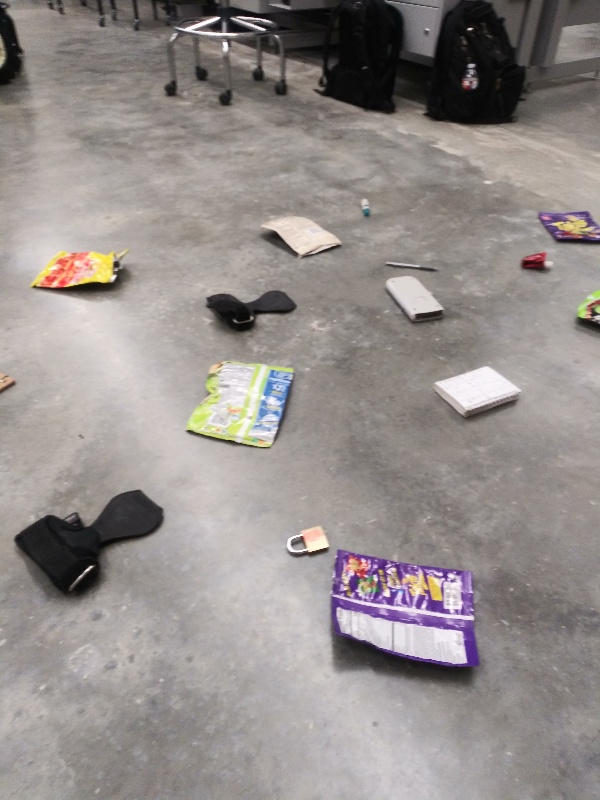bag: (327, 543, 484, 680), (180, 356, 301, 451), (25, 247, 132, 292), (252, 213, 346, 259), (533, 206, 600, 246), (570, 286, 600, 332)
bottle: (457, 59, 481, 96)
